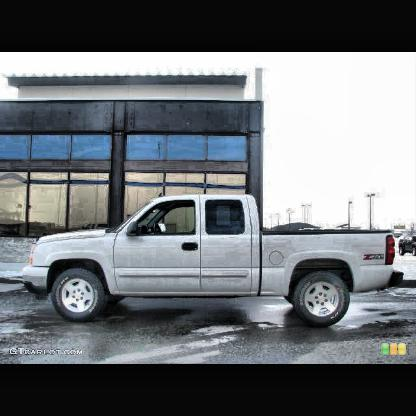Chevrolet Silverado 1500 Extended Cab 2012: (21, 195, 406, 330)
